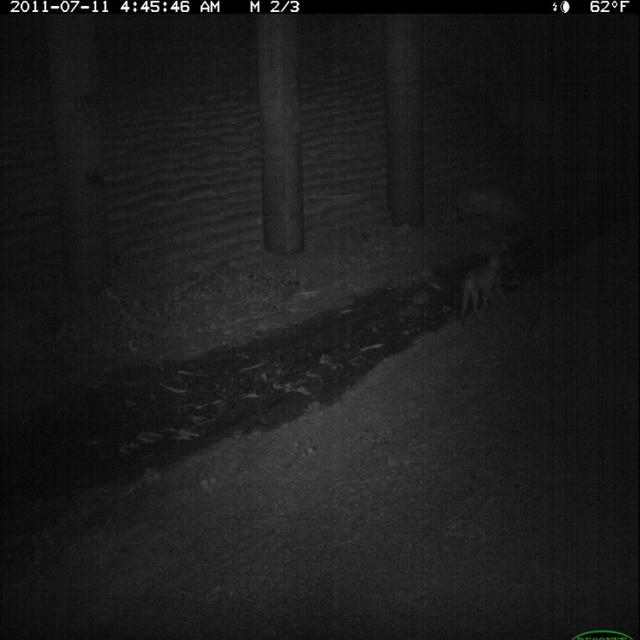bobcat: (458, 246, 509, 326)
